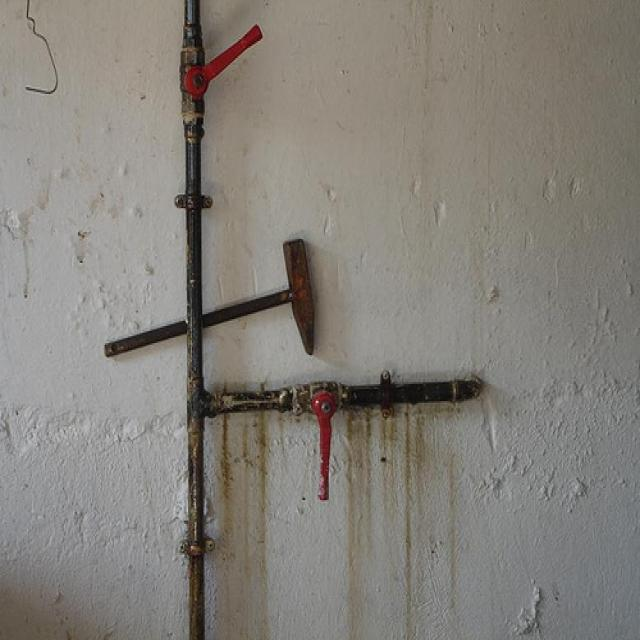hammer: (94, 228, 324, 371)
